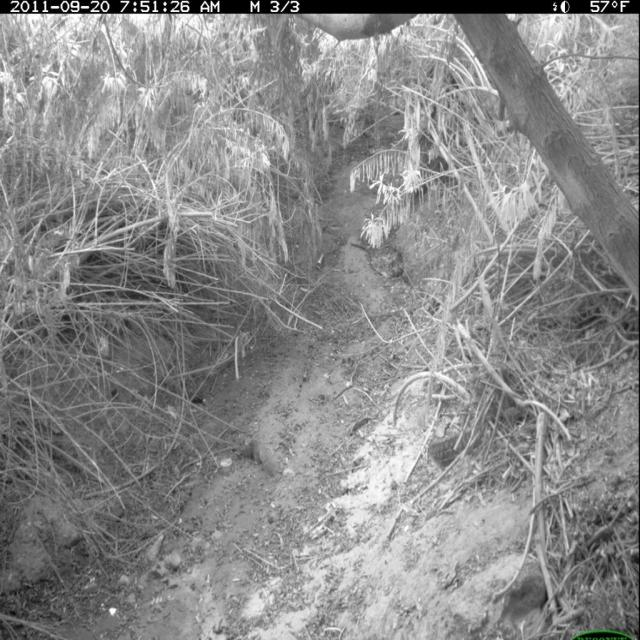squirrel: (239, 429, 286, 482)
